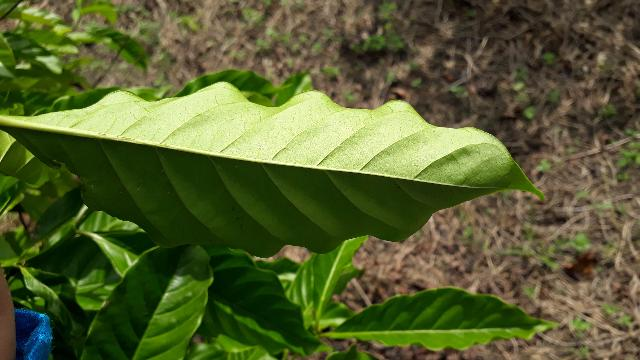healthy: (0, 78, 548, 261)
